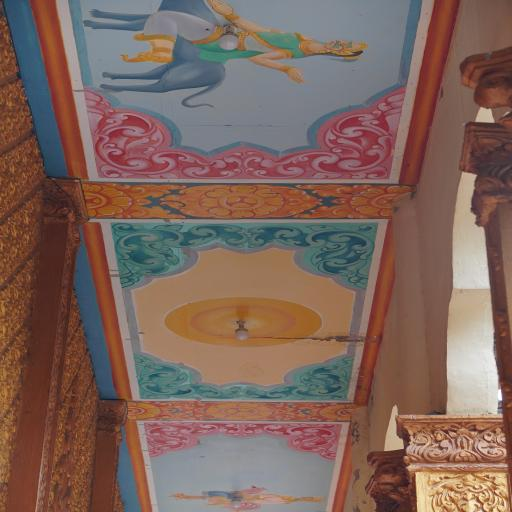hoa: (200, 185, 283, 218), (354, 186, 413, 217), (82, 184, 133, 218), (207, 402, 273, 421), (320, 404, 366, 422), (122, 401, 161, 421)
la: (243, 87, 405, 181), (84, 87, 243, 179), (247, 224, 377, 292), (111, 223, 248, 287), (243, 355, 354, 402), (134, 354, 242, 400), (401, 422, 509, 463), (242, 423, 344, 461), (143, 422, 242, 459), (428, 472, 511, 512), (164, 186, 210, 218), (275, 186, 321, 216), (297, 183, 369, 202), (299, 203, 367, 219), (130, 183, 186, 200), (131, 204, 188, 220), (270, 403, 303, 421), (158, 400, 194, 412), (160, 411, 204, 420), (192, 401, 212, 420), (288, 402, 334, 410), (303, 414, 332, 422)
than: (95, 0, 374, 85), (166, 484, 326, 508)
